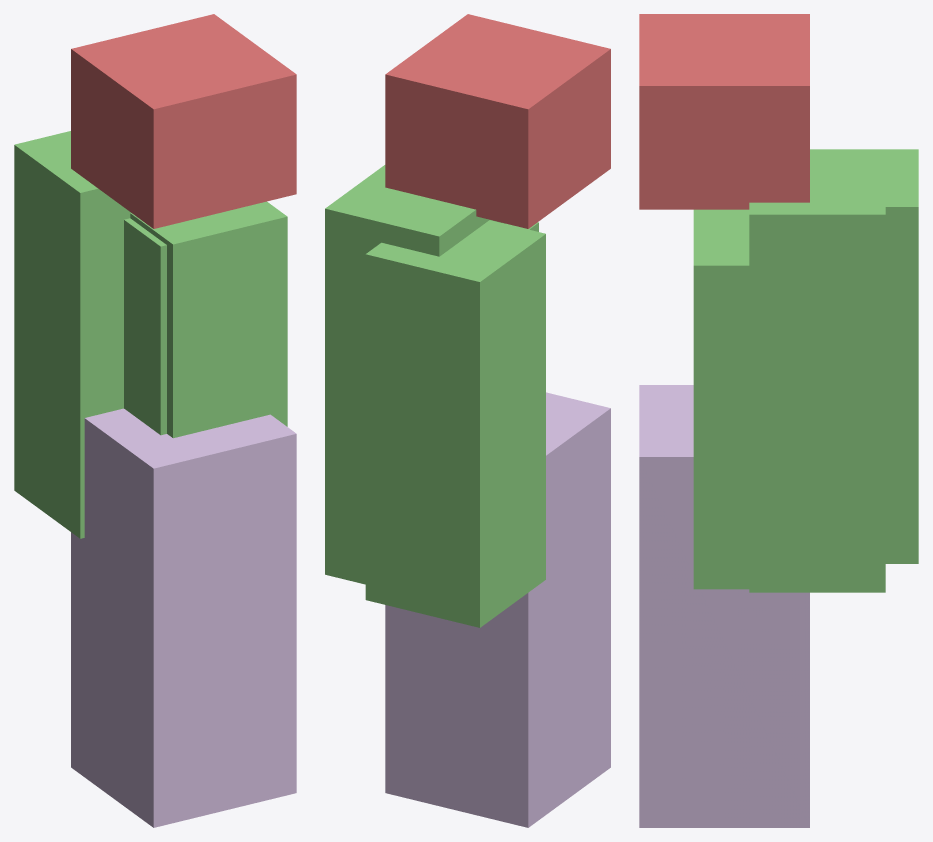
File: Item_Herb_AMF_Guardthistle_Bundle3.glb
3 renders of one model, left to right at view 1: azimuth 30°, elevation 25°; view 2: azimuth 150°, elevation 25°; view 3: azimuth 270°, elevation 25°, orthographic. The views are drawn at different scales.
Visible parts, largest first — view 1: Item_Herb_AMF_Guardthistle_Bundle3; view 2: Item_Herb_AMF_Guardthistle_Bundle3; view 3: Item_Herb_AMF_Guardthistle_Bundle3.
Boxes of the visible parts, box(x1,y1,x2,y2) form: Item_Herb_AMF_Guardthistle_Bundle3: box(14, 14, 296, 827); Item_Herb_AMF_Guardthistle_Bundle3: box(325, 14, 610, 827); Item_Herb_AMF_Guardthistle_Bundle3: box(639, 14, 918, 827).
Bounding box in the file's own units: 0.0597 × 0.24 × 0.0818.
